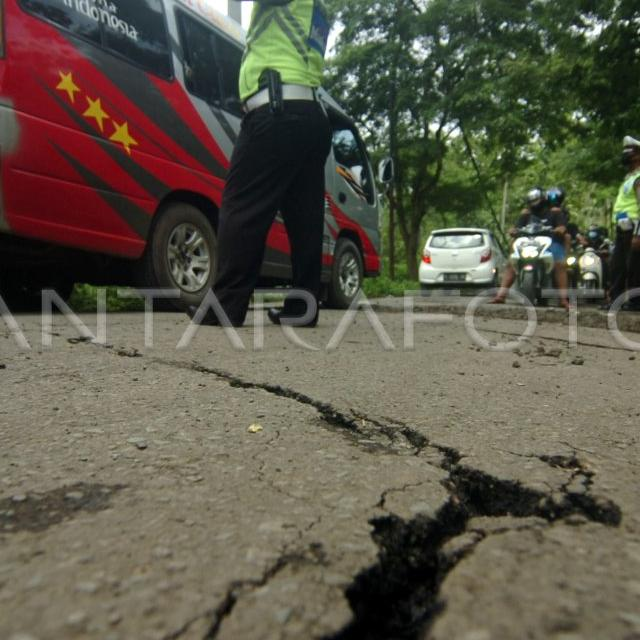retak_memanjang: (60, 325, 590, 514), (224, 366, 515, 640), (101, 489, 312, 640)
